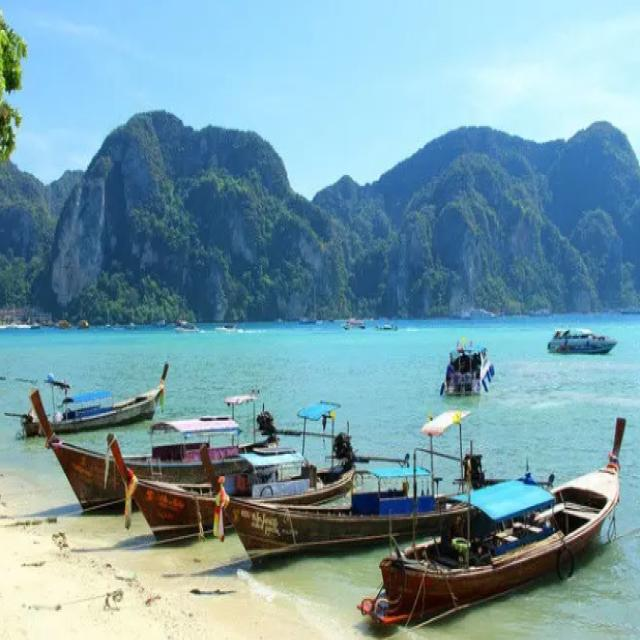fishing boat: (373, 413, 632, 634), (211, 388, 497, 562), (110, 391, 353, 553), (25, 386, 264, 516), (11, 366, 175, 443)
houseboat: (440, 342, 496, 396), (548, 322, 622, 359)
